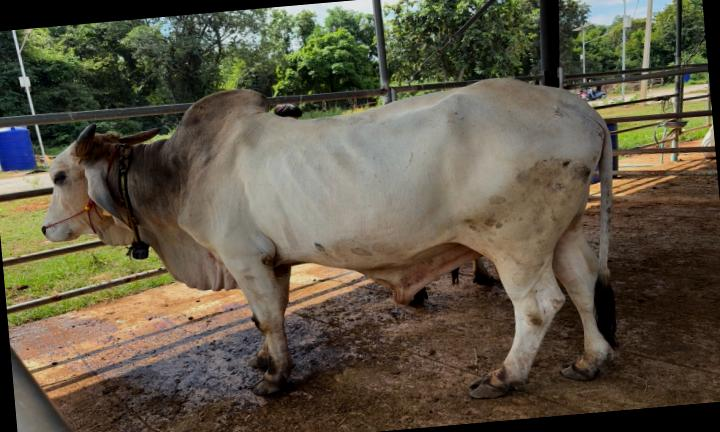Brahman: (43, 78, 616, 397)
